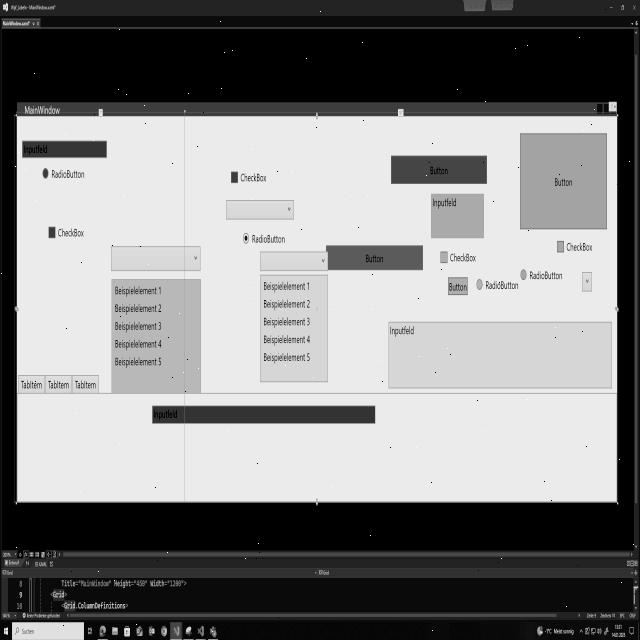button: (519, 130, 608, 232), (391, 153, 488, 186), (326, 244, 424, 272), (448, 275, 468, 297)
checkbox: (48, 225, 56, 240), (440, 250, 448, 264), (230, 171, 238, 184), (556, 240, 564, 253)
dropdownMenu: (110, 244, 202, 394), (259, 250, 325, 383), (225, 198, 295, 221), (582, 270, 593, 293)
input: (386, 317, 614, 392), (151, 401, 376, 426), (430, 190, 486, 242), (20, 134, 109, 162)
label: (251, 231, 286, 244), (51, 168, 85, 181), (239, 172, 268, 185), (485, 280, 519, 291), (57, 226, 85, 239), (530, 270, 563, 280), (449, 252, 476, 263), (566, 241, 593, 252)
menuItem: (115, 285, 162, 297), (115, 338, 162, 350), (115, 356, 162, 368), (264, 280, 310, 292), (264, 316, 310, 328), (115, 303, 162, 314), (114, 321, 162, 331), (263, 298, 311, 308), (263, 352, 311, 362), (264, 334, 310, 344)
radio: (241, 230, 250, 245), (41, 166, 50, 180), (476, 278, 483, 291), (520, 268, 527, 280)
tabControl: (41, 371, 75, 398), (70, 371, 100, 399), (14, 371, 46, 396)
